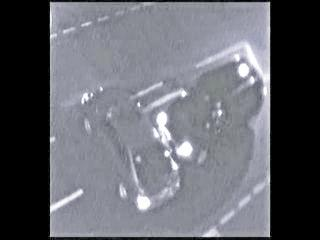Car: (79, 83, 184, 207), (163, 61, 264, 156)
Minor Accident: (87, 79, 253, 199)
